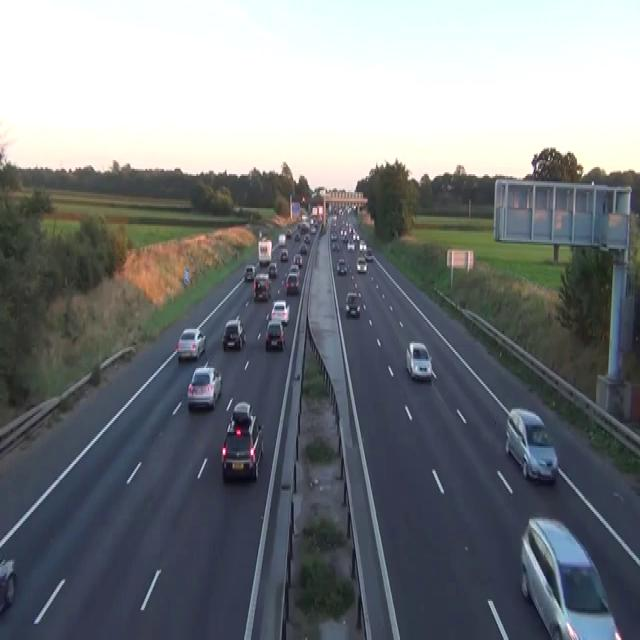Car: (519, 516, 621, 638), (505, 407, 558, 484), (221, 402, 263, 482), (186, 364, 222, 409), (405, 342, 432, 381), (176, 327, 206, 361), (0, 556, 16, 614), (221, 316, 245, 351), (264, 320, 285, 350), (270, 299, 289, 325), (232, 400, 252, 423), (253, 274, 270, 300), (345, 292, 360, 316), (285, 270, 299, 294), (244, 263, 255, 281), (356, 256, 367, 272), (336, 258, 347, 274), (268, 262, 277, 278), (289, 263, 299, 276), (299, 220, 309, 233), (293, 252, 302, 266), (331, 240, 340, 251), (365, 246, 372, 260), (280, 249, 288, 261), (347, 240, 355, 251), (278, 233, 285, 245), (299, 242, 307, 252), (359, 240, 366, 251), (330, 231, 337, 240), (309, 224, 316, 233), (285, 228, 291, 238), (304, 233, 310, 243), (294, 231, 300, 240), (258, 228, 263, 238), (301, 195, 306, 202)
Truck: (257, 238, 272, 265)
